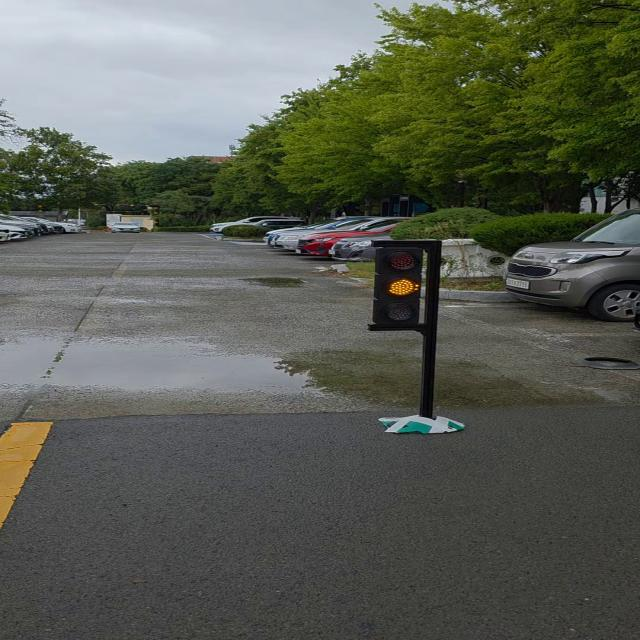yellow: (376, 244, 430, 328)
